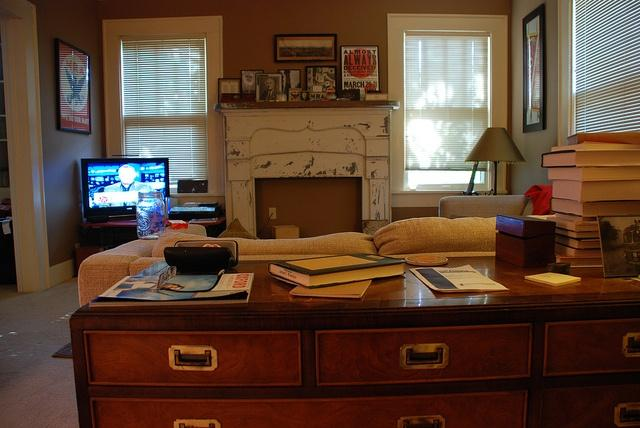AIO PC-Monitor-TV: (79, 156, 169, 219)
